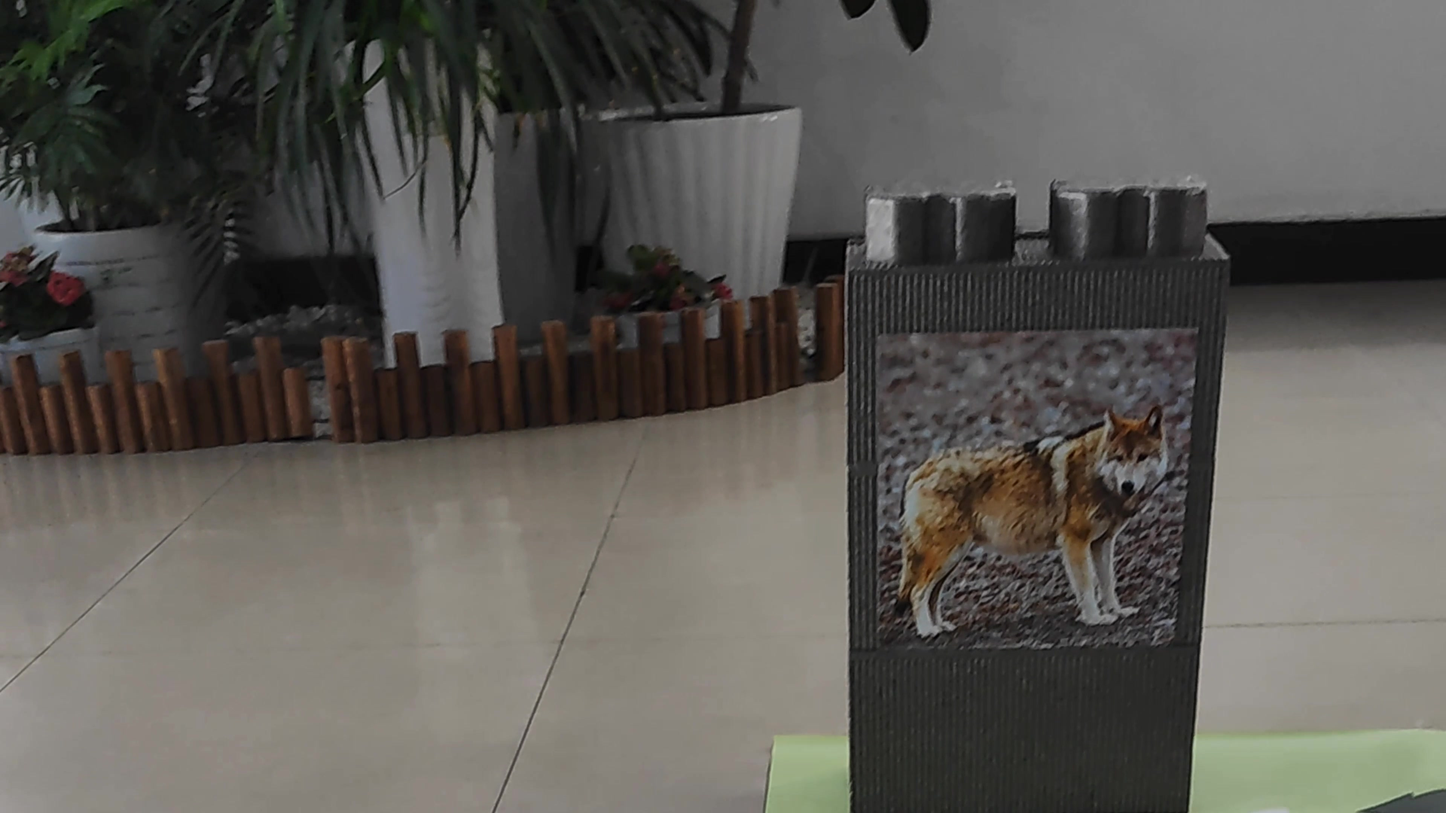wolf: (875, 381, 1190, 640)
